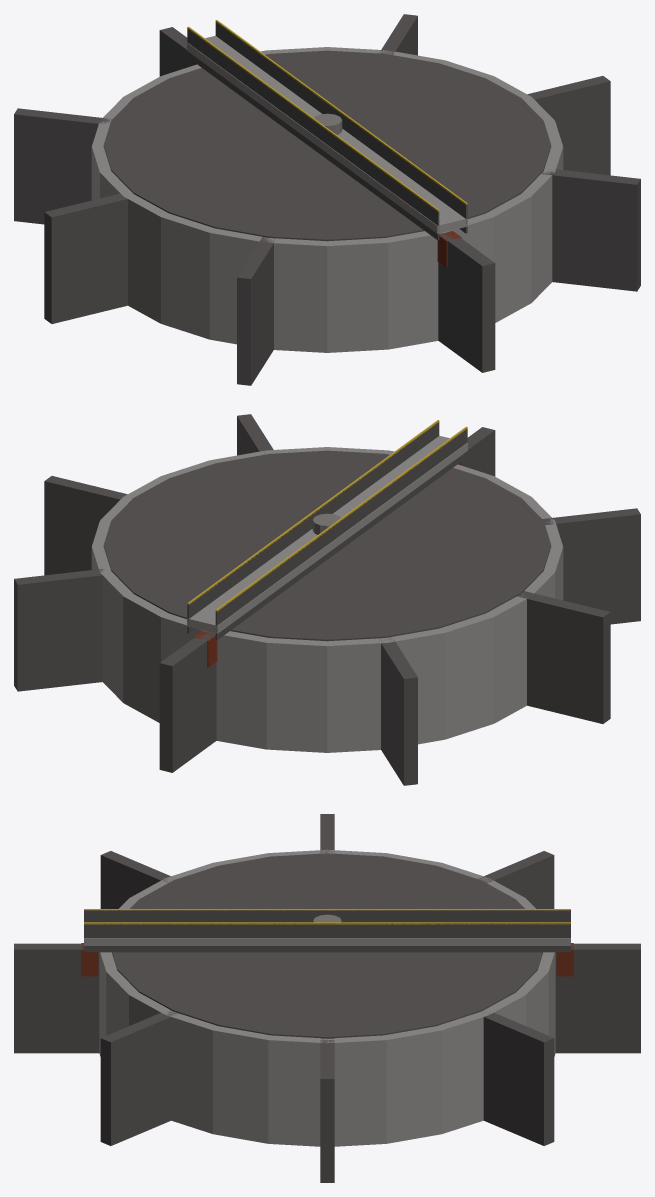
Rendered from B_thickener.glb.
The picture shows the model from 3 angles, top to bottom: view 1: azimuth 30°, elevation 25°; view 2: azimuth 150°, elevation 25°; view 3: azimuth 270°, elevation 25°; orthographic projection. The views are drawn at different scales.
Parts seen in each view (by area): view 1: Cylinder.001, Cylinder, MCDCX_h.004, MCDCX_h.009, MCDCX_h.008, MCDCX_h.003, MCDCX_h.001, MCDCX_h.005, Cube, MCDCX_h.010, MCDCX_h.002, MCDCX_h.007 (+3 smaller); view 2: Cylinder.001, Cylinder, MCDCX_h.006, MCDCX_h.009, MCDCX_h.010, MCDCX_h.007, MCDCX_h.001, MCDCX_h.005, Cube, MCDCX_h.008, MCDCX_h.002, MCDCX_h.003 (+3 smaller); view 3: Cylinder.001, Cylinder, MCDCX_h.002, MCDCX_h.003, MCDCX_h.007, MCDCX_h.004, MCDCX_h.006, MCDCX_h.001, Cube, MCDCX_h.008, MCDCX_h.010, MCDCX_h.005 (+3 smaller).
Part boxes in pixels (box(x1,y1,x2,y2)): Cylinder.001: box(103, 50, 551, 241); Cylinder: box(91, 47, 563, 352); MCDCX_h.004: box(541, 169, 640, 291); MCDCX_h.009: box(44, 193, 127, 323); MCDCX_h.008: box(14, 108, 111, 224); MCDCX_h.003: box(438, 231, 495, 372); MCDCX_h.001: box(187, 29, 439, 240); MCDCX_h.005: box(527, 76, 610, 175); Cube: box(187, 35, 467, 233); MCDCX_h.010: box(237, 237, 274, 385); MCDCX_h.002: box(215, 22, 467, 233); MCDCX_h.007: box(159, 27, 193, 76); Cylinder.001: box(103, 450, 551, 641); Cylinder: box(91, 447, 563, 752); MCDCX_h.006: box(14, 569, 104, 691); MCDCX_h.009: box(517, 591, 610, 723); MCDCX_h.010: box(542, 508, 640, 624); MCDCX_h.007: box(159, 631, 216, 772); MCDCX_h.001: box(215, 428, 467, 640); MCDCX_h.005: box(44, 476, 132, 575); Cube: box(187, 435, 467, 633); MCDCX_h.008: box(379, 637, 417, 785); MCDCX_h.002: box(187, 422, 439, 633); MCDCX_h.003: box(461, 427, 495, 476); Cylinder.001: box(112, 853, 542, 1038); Cylinder: box(99, 849, 555, 1146); MCDCX_h.002: box(84, 923, 570, 952); MCDCX_h.003: box(14, 943, 99, 1053); MCDCX_h.007: box(555, 943, 640, 1053); MCDCX_h.004: box(100, 1010, 178, 1145); MCDCX_h.006: box(483, 1012, 554, 1145); MCDCX_h.001: box(84, 910, 570, 922); Cube: box(84, 938, 570, 945); MCDCX_h.008: box(478, 851, 554, 908); MCDCX_h.010: box(100, 851, 175, 908); MCDCX_h.005: box(320, 1038, 334, 1182).
Bounding box in the file's own units: 21.9 × 5.23 × 21.9.
